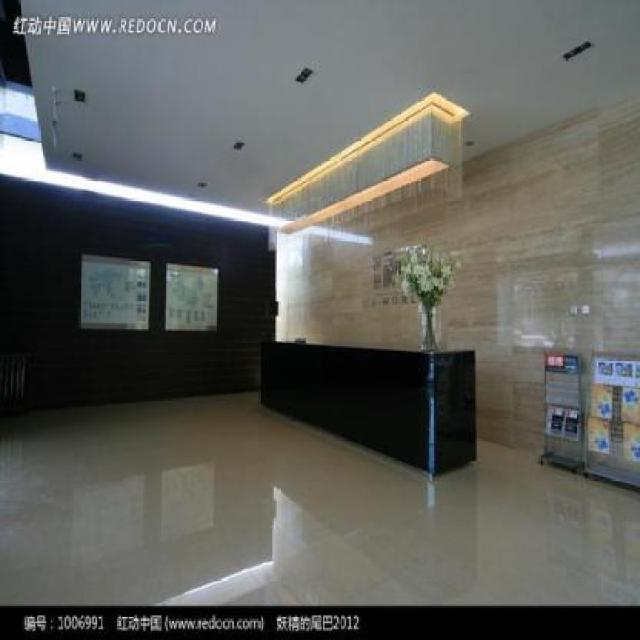frontdesk: (255, 329, 486, 496)
